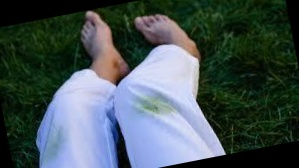earth: (141, 93, 170, 115)
